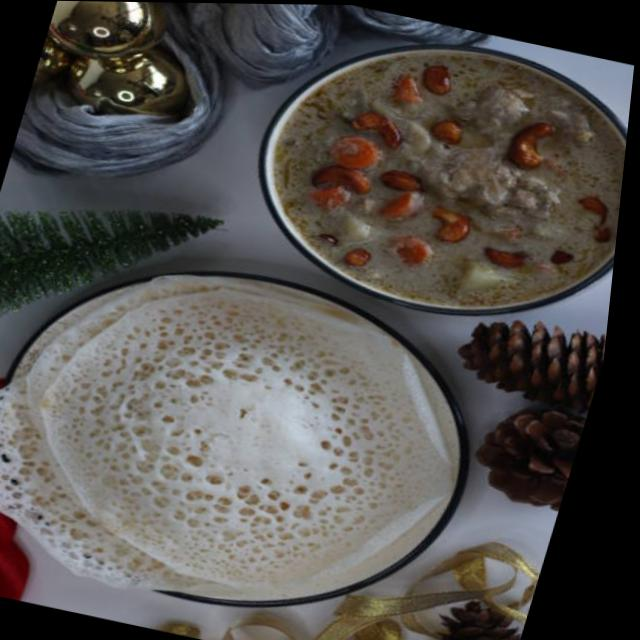AAPAM: (0, 275, 450, 592)
CURRY: (266, 49, 626, 322)
